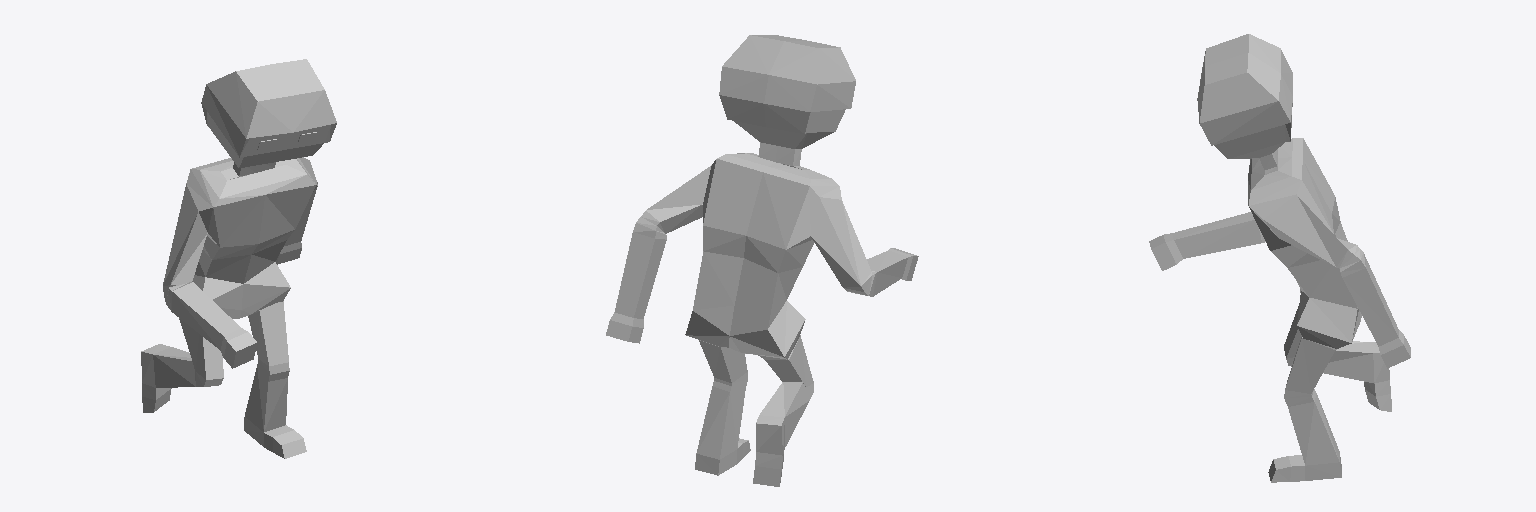
The model's file is kevin.obj.
The picture shows the model from 3 angles: view 1: azimuth 30°, elevation 25°; view 2: azimuth 150°, elevation 25°; view 3: azimuth 270°, elevation 25°; orthographic projection.
Bounding box in the file's own units: 0.5049 × 1.02 × 0.5899.